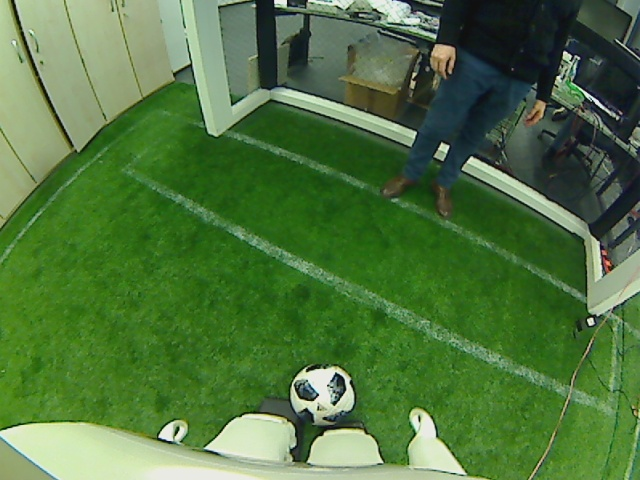ball: (288, 361, 357, 426)
